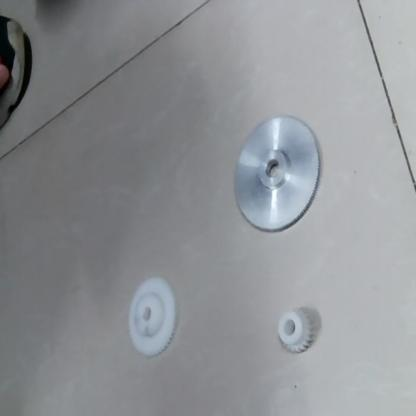FOD: (228, 112, 324, 236), (126, 270, 180, 364), (272, 305, 320, 362)
